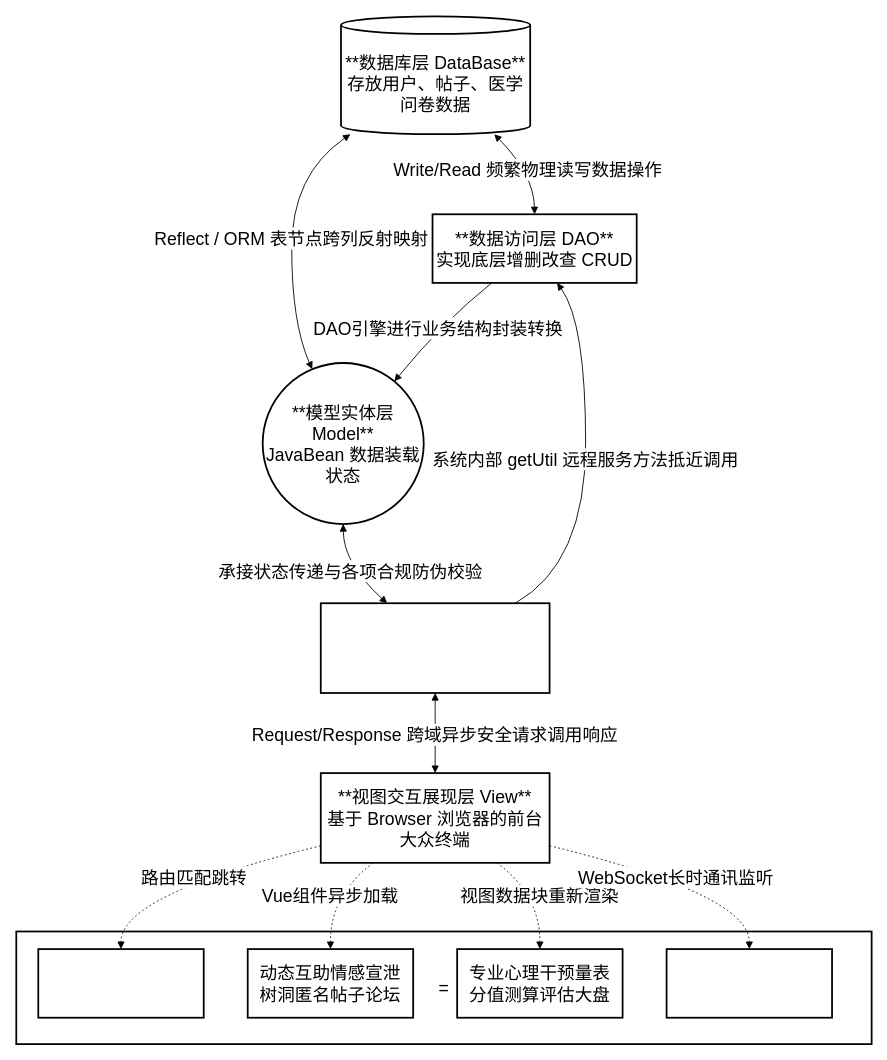
The diagram is 887 pixels wide and 1060 high, and some of its shapes have lost their labels. Here are the shapes that lost their labels. From the top down, the centre of each, then its label:
At (x=434, y=647): "**控制中心 Controller** 拦截拦截并处理前端复杂呼叫业务指令".
At (x=120, y=983): "用户账号安全注册 防伪验证系统管理".
At (x=748, y=983): "AI拟真心理咨询师 多重人设陪聊干预".
